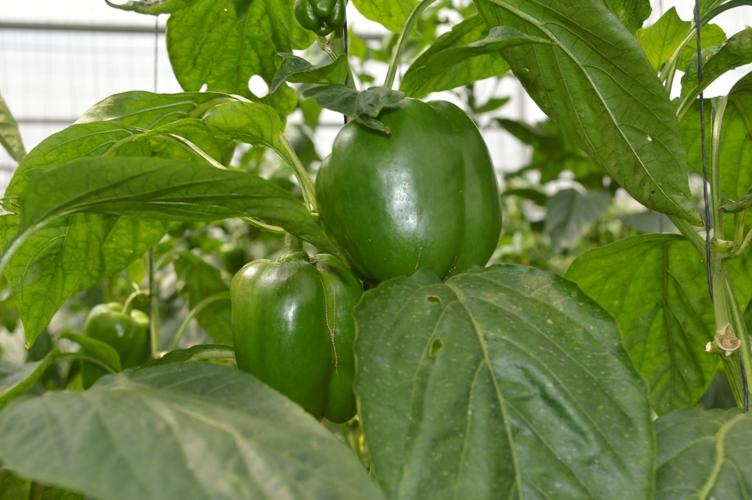BellPepper: (314, 97, 499, 276), (230, 253, 358, 423), (81, 303, 154, 379), (291, 2, 345, 35)
